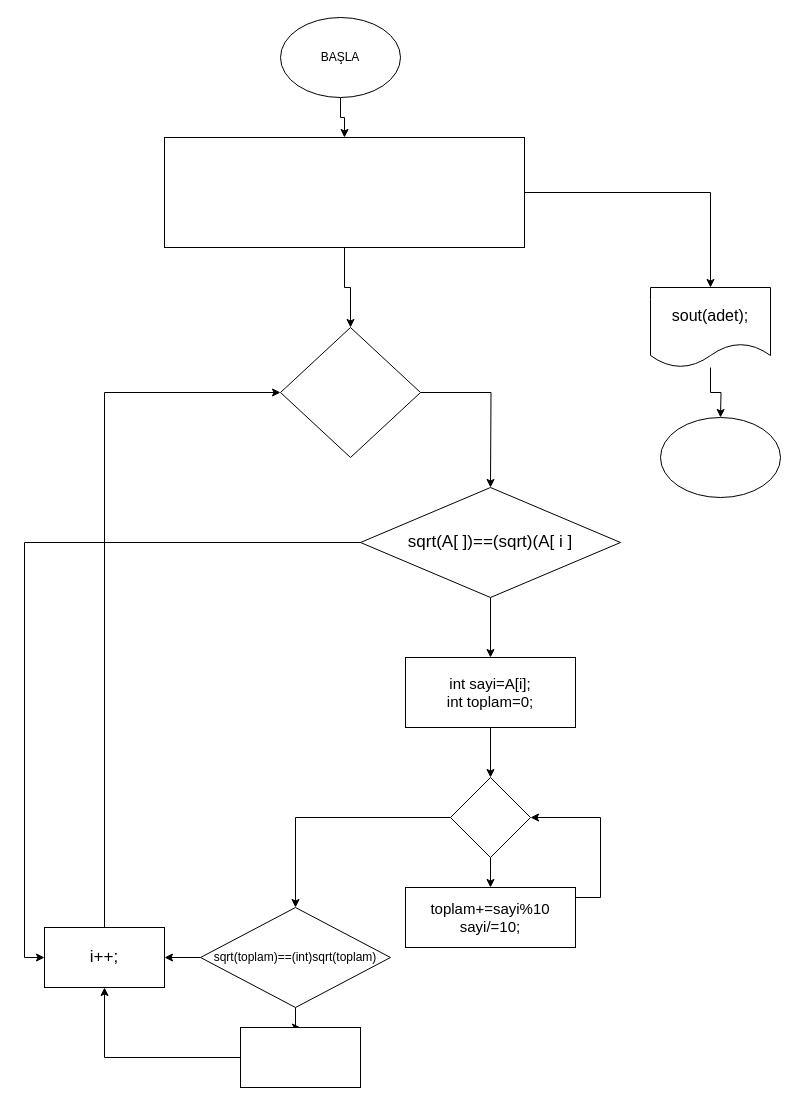
This 798x1105 diagram has some shape labels left out. The centre of each missing label's shape, as x and y in pixels:
"adet++;" goes at (x=300, y=1057).
"i<len" goes at (x=350, y=392).
"int a[ ]={36,81,144,169,225}; int.len=a.length( ); int i=0; int adet=0;" goes at (x=344, y=192).
"sayi>0" goes at (x=490, y=817).
